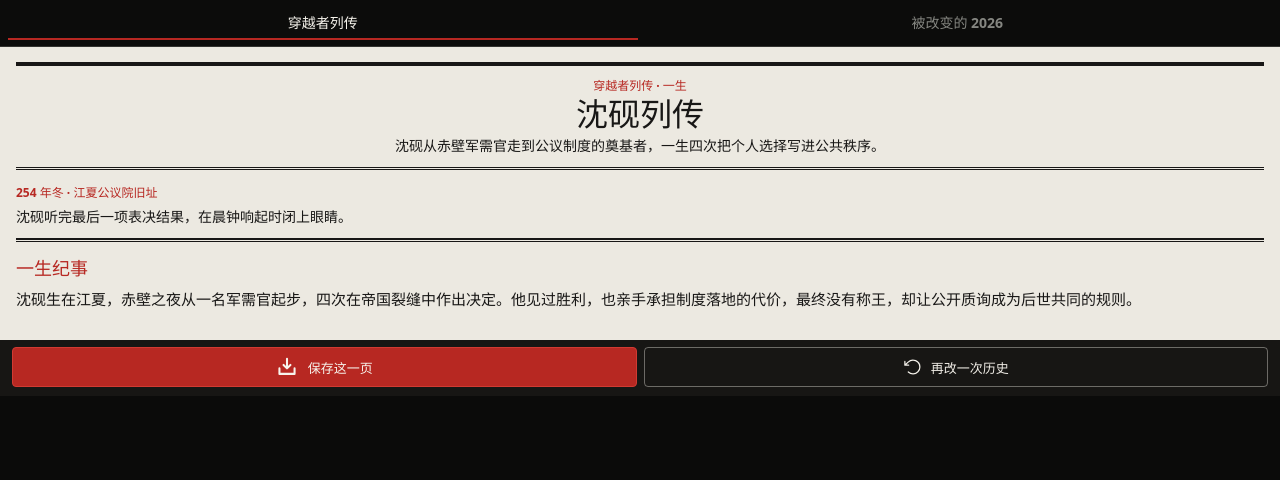
Test: alternate present export › prepares first and opens the mobile system panel only on a second click
Click the button "保存这一页": click(324, 367) x1=12 y1=347 x2=636 y2=387
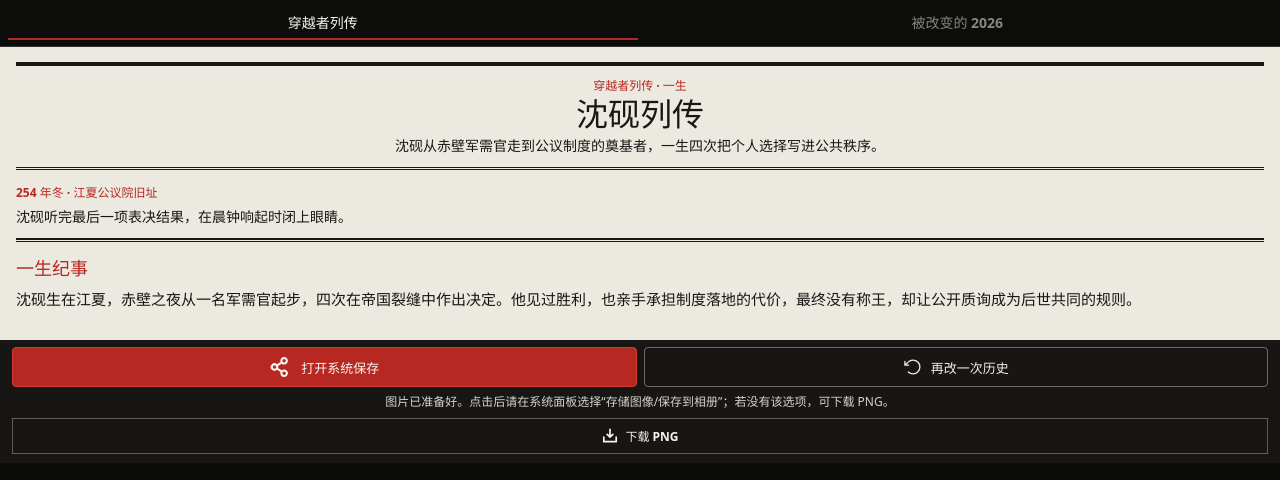
Result: the message shows "图片已准备好" at x1=385 y1=393 x2=895 y2=410
Result: the message shows "存储图像/保存到相册" at x1=385 y1=393 x2=895 y2=410
Result: the button "下载 PNG" is enabled at x1=12 y1=418 x2=1268 y2=454
Click the button "打开系统保存": click(324, 367) x1=12 y1=347 x2=636 y2=387
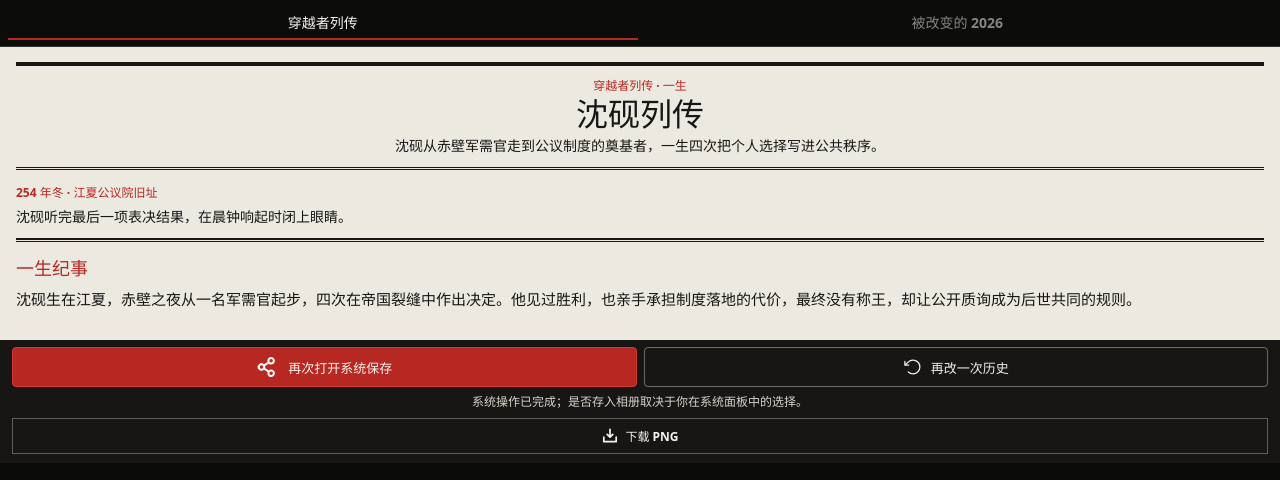
Result: the message shows "系统操作已完成" at x1=472 y1=393 x2=808 y2=410
Result: the message shows "是否存入相册取决于你在系统面板中的选择" at x1=472 y1=393 x2=808 y2=410
